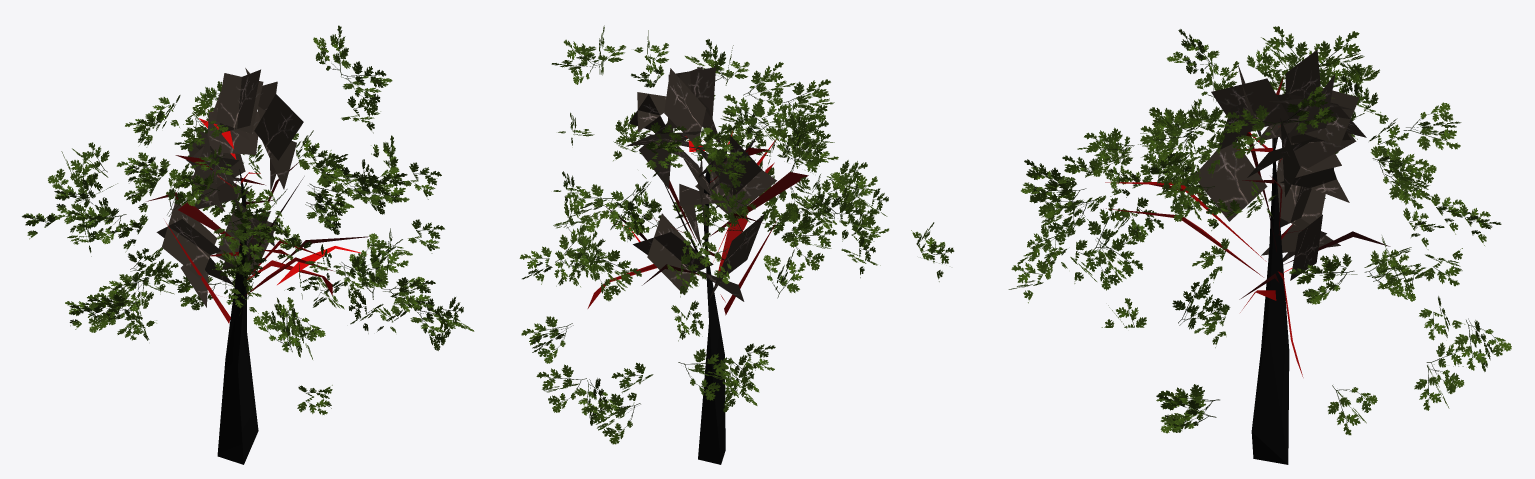
Rendered from maple4 lod4.FBX.
The picture shows the model from 3 angles, left to right: view 1: azimuth 30°, elevation 25°; view 2: azimuth 150°, elevation 25°; view 3: azimuth 270°, elevation 25°; orthographic projection. The views are drawn at different scales.
Parts seen in each view (by area): view 1: maple4 lod4; view 2: maple4 lod4; view 3: maple4 lod4.
Boxes of the visible parts, x1=… form: maple4 lod4: x1=22, y1=25, x2=474, y2=464; maple4 lod4: x1=519, y1=25, x2=954, y2=464; maple4 lod4: x1=1008, y1=26, x2=1511, y2=464.
Bounding box in the file's own units: 128071 × 120394 × 128710.
